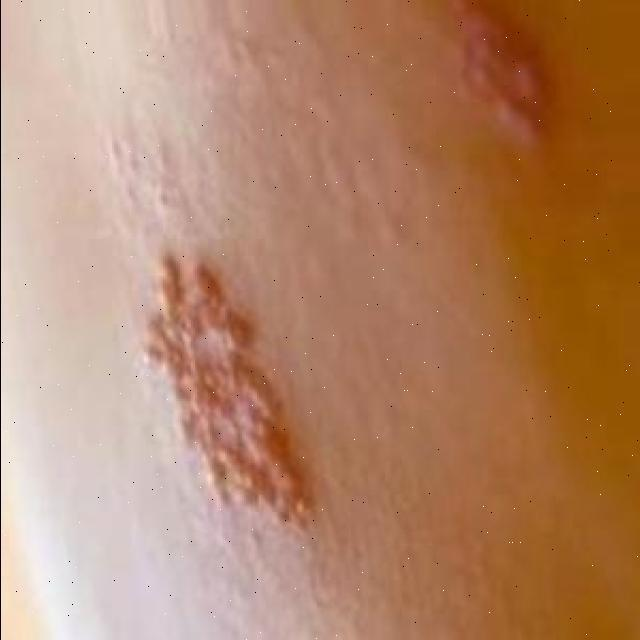Shingles: (136, 252, 314, 530), (456, 0, 550, 138)
